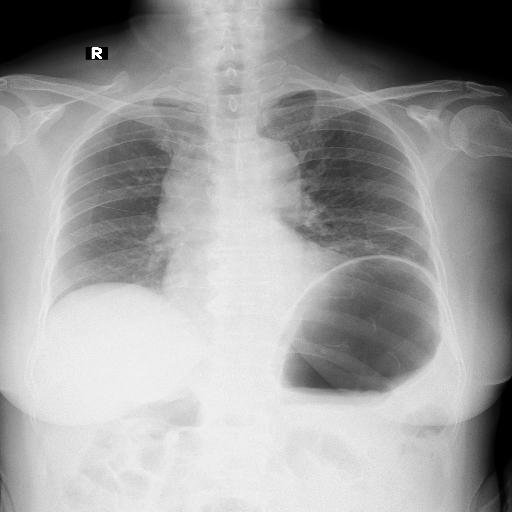Aortic enlargement: (199, 104, 268, 171)
Lung Opacity: (126, 96, 194, 202)
Other lesion: (131, 94, 183, 192)
Pleural thickening: (113, 90, 175, 106)
Pulmonary fibrosis: (354, 223, 396, 229)
